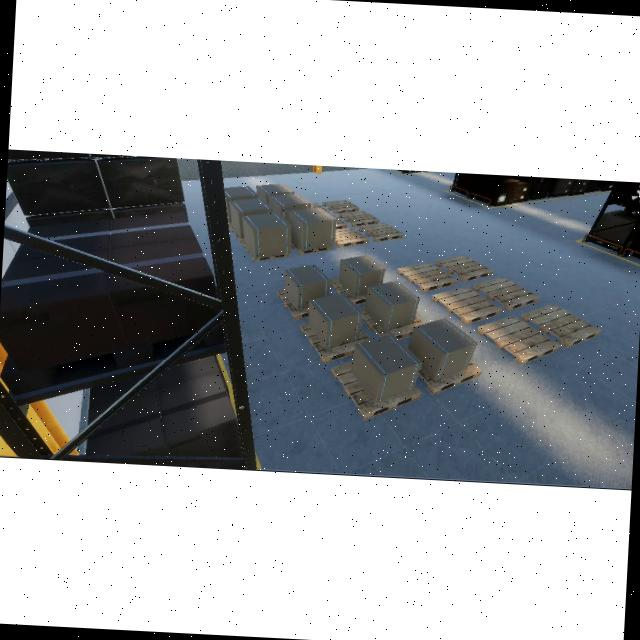wooden_pallet: (330, 361, 423, 421), (476, 314, 561, 366), (521, 303, 602, 349), (432, 286, 504, 325), (471, 277, 541, 312), (417, 360, 482, 397), (299, 322, 354, 364), (396, 262, 457, 294), (435, 255, 494, 283), (277, 289, 308, 321), (358, 222, 404, 242), (334, 228, 369, 248), (338, 211, 379, 227), (291, 241, 332, 256)
